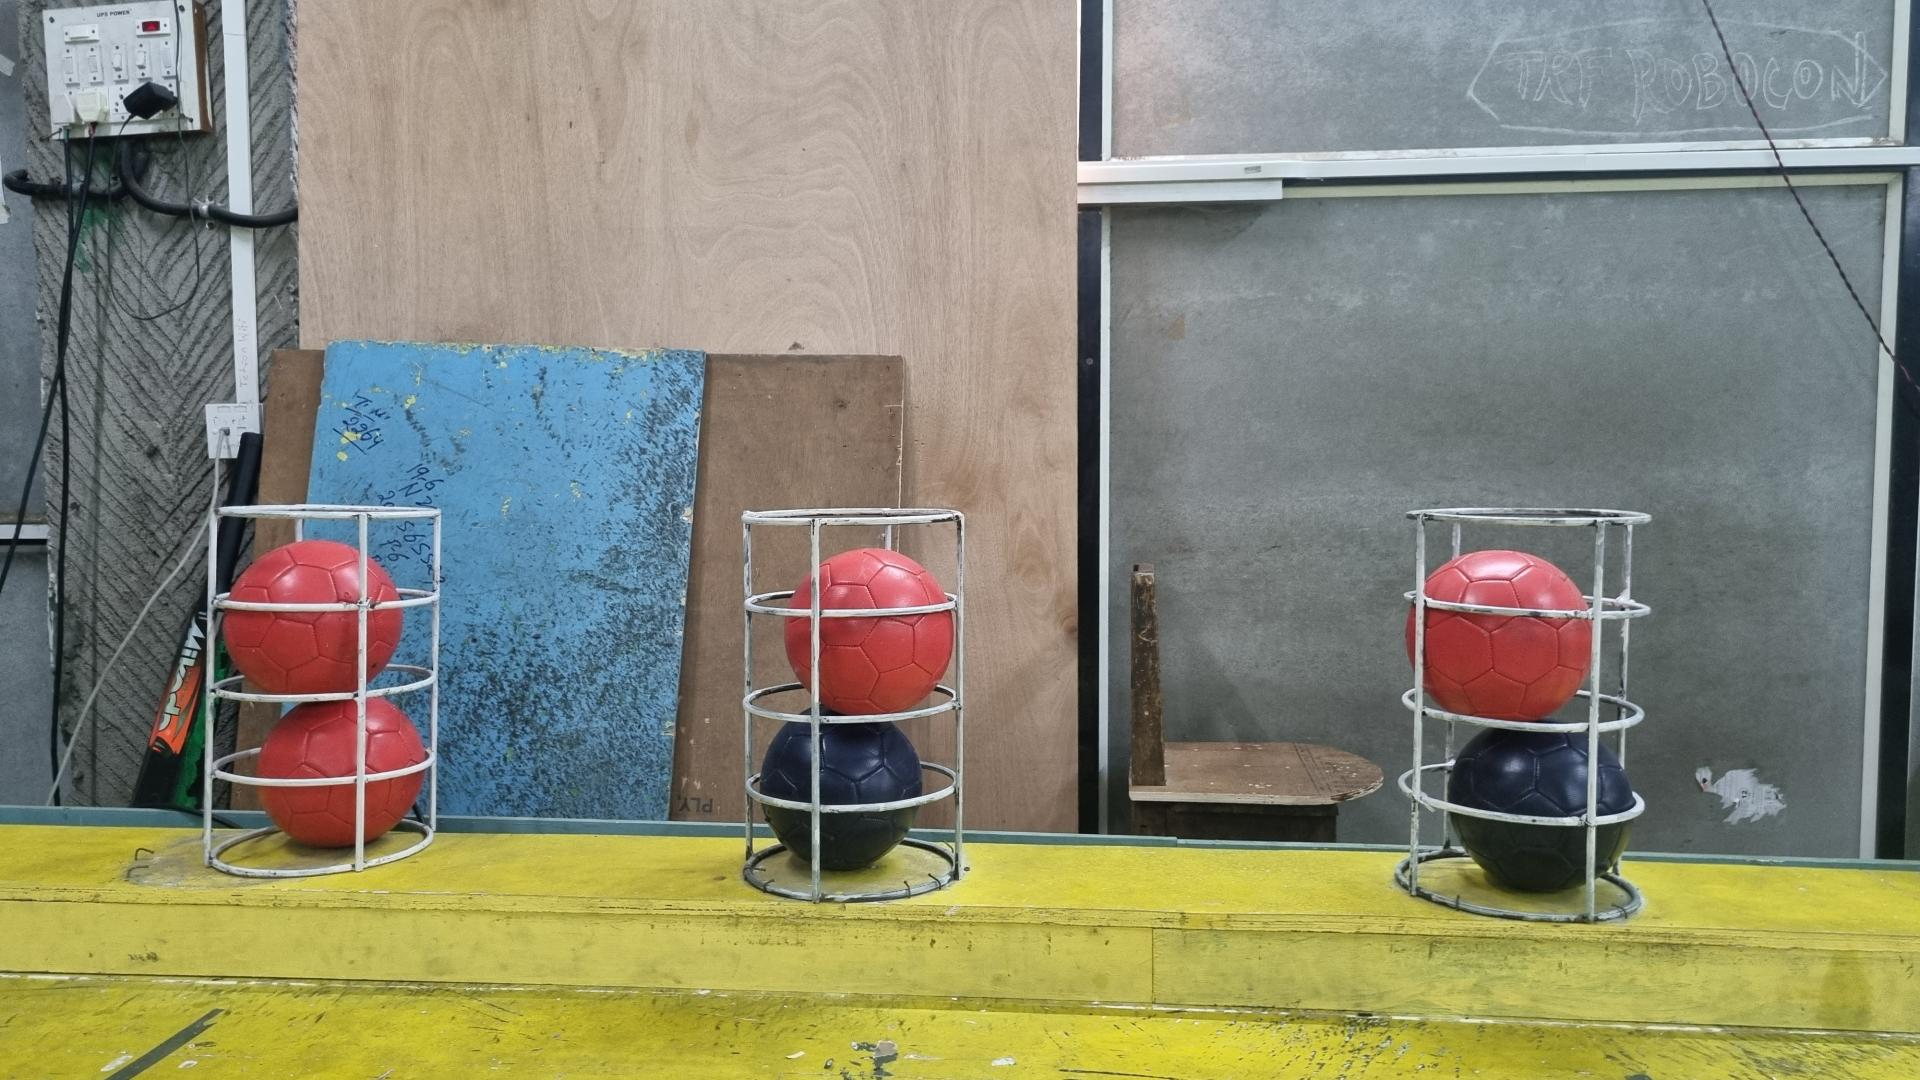dhoka: (1448, 731, 1639, 895), (757, 708, 923, 873)
laale: (1406, 551, 1594, 723), (783, 547, 956, 716), (222, 539, 405, 696), (255, 696, 427, 851)
